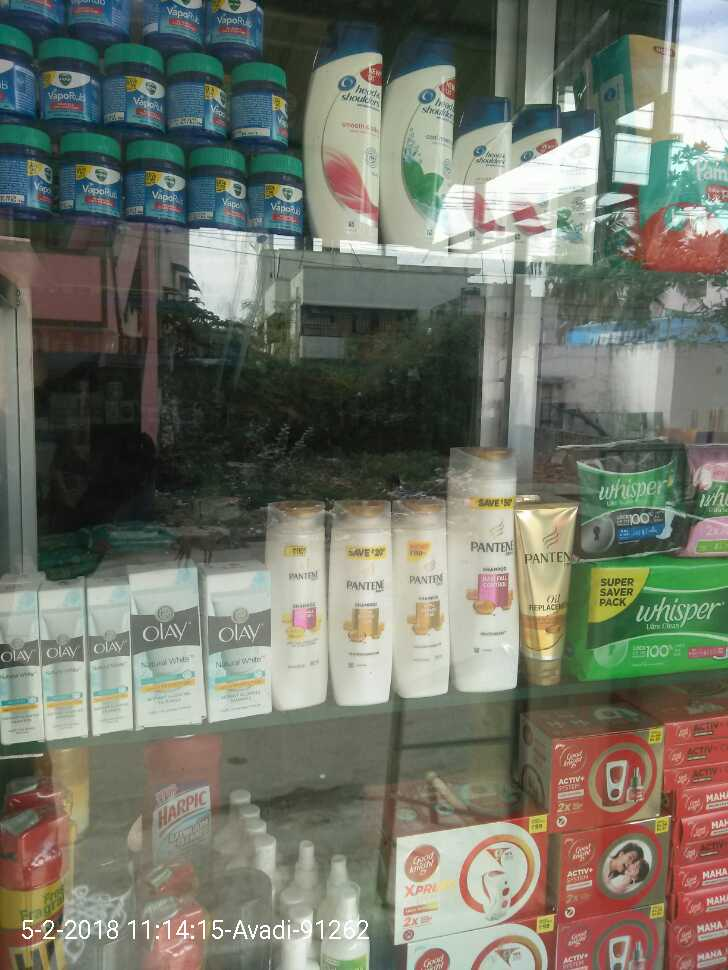vicks: (36, 39, 100, 127), (103, 39, 159, 131), (62, 132, 120, 218), (249, 153, 306, 240), (189, 145, 244, 233), (231, 63, 290, 145), (127, 138, 183, 224), (1, 131, 52, 220), (167, 53, 222, 135), (206, 1, 265, 50), (1, 34, 31, 120), (147, 1, 201, 33)
